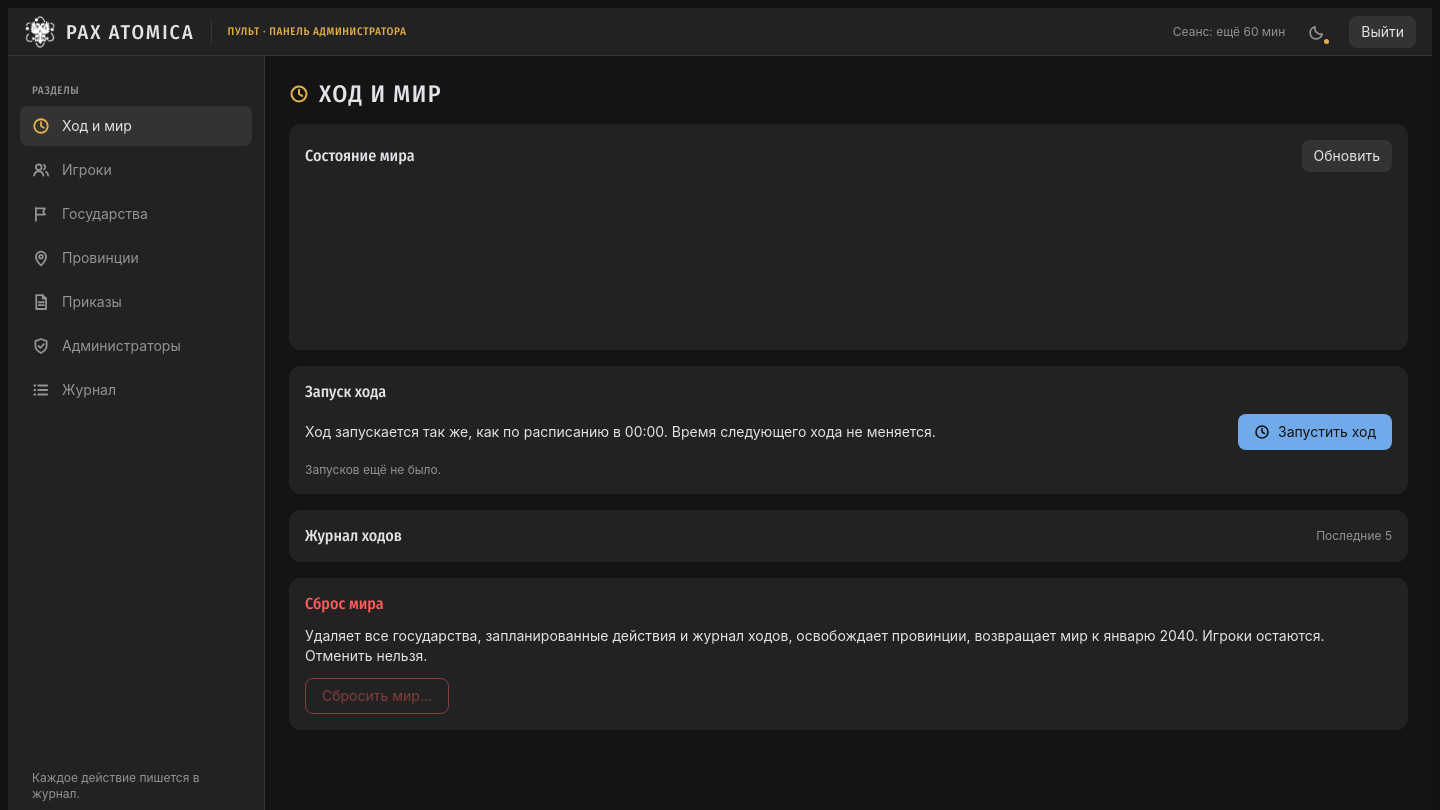
Test: «Выйти» clears the stored session and shows the logout card
Click the button "Выйти" at (1383, 32), box [1349,16,1416,48]
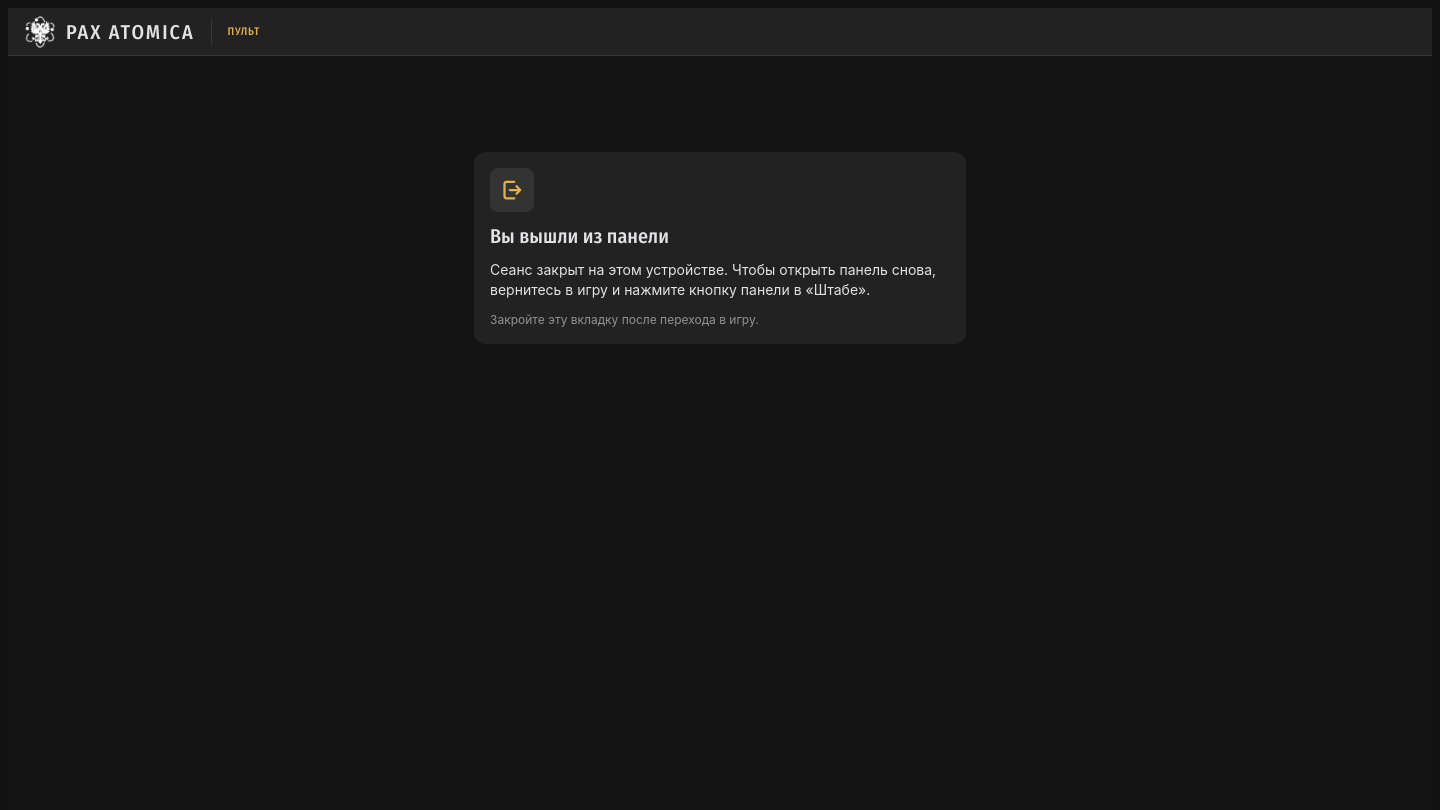
expect the heading "Вы вышли из панели" is shown: met, box [490,224,669,248]
